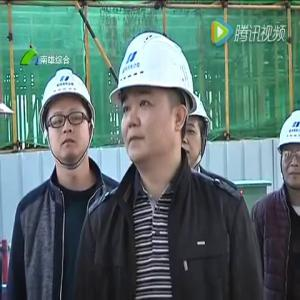white: (113, 32, 193, 166), (39, 70, 97, 165), (179, 94, 210, 166), (277, 110, 300, 192)
